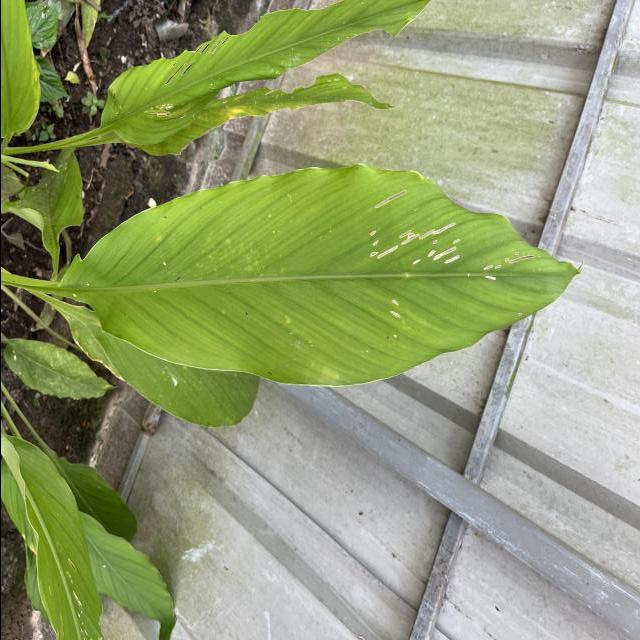Curcuma longa: (52, 161, 591, 391)
